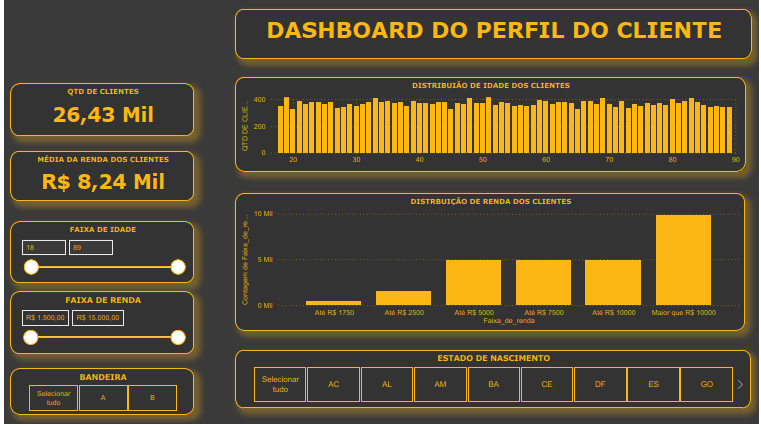

This screenshot's page, from the dashboard's own definition file:
{"tool":"powerbi","page":{"name":"VISÃO DOS CLIENTES","canvas":[1280,720],"ordinal":1},"visuals":[{"type":"columnChart","title":"DISTRIBUIÃO DE IDADE DOS CLIENTES","fields":{"Y":["CountNonNull(Base cliente.cliente_Log)"],"Category":["Base cliente.idade"]},"box":[392.5,132.5,864.5,160.3],"z":0},{"type":"textbox","box":[392.5,16.4,875.5,85.4],"z":1000},{"type":"card","title":"QTD DE CLIENTES","fields":{"Values":["CountNonNull(Base cliente.cliente_Log)"]},"box":[10.5,143.2,311.4,89.3],"z":2000},{"type":"card","title":"MÉDIA DA RENDA DOS CLIENTES","fields":{"Values":["Avg(Base cliente.renda)"]},"box":[10.5,257.5,311.4,85.4],"z":3000},{"type":"slicer","title":"BANDEIRA","fields":{"Values":["base compra.bandeira"]},"box":[10.5,626.7,311.4,77.5],"z":4000},{"type":"slicer","title":"FAIXA DE RENDA","fields":{"Values":["Base cliente.renda"]},"box":[10.5,496,311.4,106.4],"z":5000},{"type":"slicer","title":"ESTADO DE NASCIMENTO","fields":{"Values":["Base cliente.uf_nascimento"]},"box":[392.8,595.2,873.7,98.5],"z":6000},{"type":"columnChart","title":"DISTRBUIÇÃO DE RENDA DOS CLIENTES","fields":{"Category":["Base cliente.Faixa_de_renda"],"Y":["CountNonNull(Base cliente.Faixa_de_renda)"]},"box":[392.5,329.5,864.3,232.9],"z":7000},{"type":"slicer","title":"FAIXA DE IDADE","fields":{"Values":["Base cliente.idade"]},"box":[10.4,376.9,310.5,103.5],"z":8000}]}

Visuals, with their boxes in screenshot pixels (x1, y1, x2, y2), scaled from the page's 1280x720 canvas onto the 761x426 screenshot:
"DISTRIBUIÃO DE IDADE DOS CLIENTES" columnChart: l=233, t=78, r=747, b=173
textbox: l=233, t=10, r=754, b=60
"QTD DE CLIENTES" card: l=6, t=85, r=191, b=138
"MÉDIA DA RENDA DOS CLIENTES" card: l=6, t=152, r=191, b=203
"BANDEIRA" slicer: l=6, t=371, r=191, b=417
"FAIXA DE RENDA" slicer: l=6, t=293, r=191, b=356
"ESTADO DE NASCIMENTO" slicer: l=234, t=352, r=753, b=410
"DISTRBUIÇÃO DE RENDA DOS CLIENTES" columnChart: l=233, t=195, r=747, b=333
"FAIXA DE IDADE" slicer: l=6, t=223, r=191, b=284
